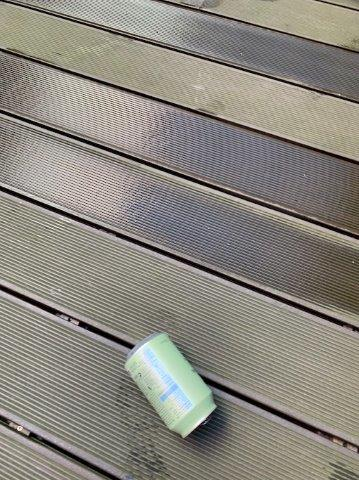kaleng: (127, 334, 215, 439)
